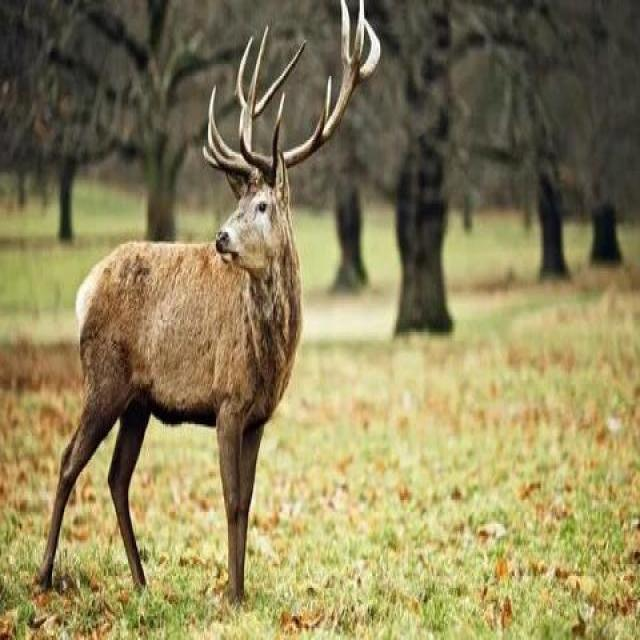deer: (44, 40, 348, 568)
